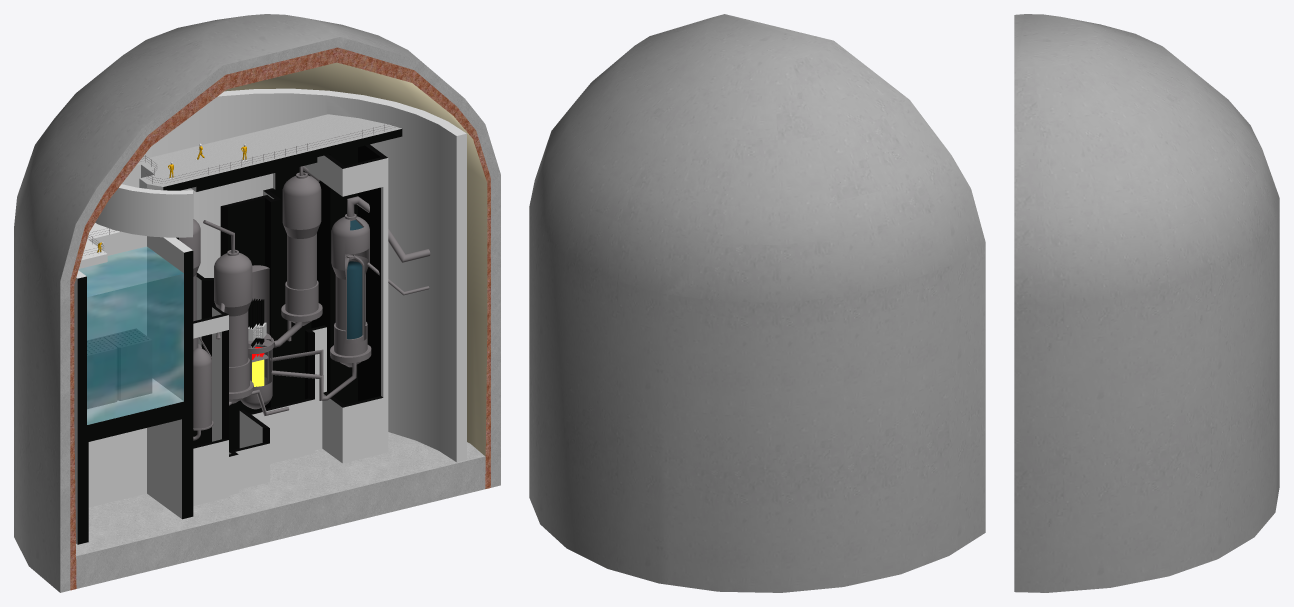
The model's file is pwr_nuclear_reactor.glb.
3 renders of one model, left to right at view 1: azimuth 30°, elevation 25°; view 2: azimuth 150°, elevation 25°; view 3: azimuth 270°, elevation 25°, orthographic. The views are drawn at different scales.
Visible parts, largest first — view 1: Object_2, Object_6, Object_5, Object_12, Object_9, Object_10, Object_11; view 2: Object_6; view 3: Object_6.
Boxes of the visible parts, x1,y1,x2,y2 form: Object_2: (74, 62, 487, 544); Object_6: (14, 14, 419, 592); Object_5: (60, 37, 500, 592); Object_12: (78, 246, 183, 424); Object_9: (70, 47, 490, 590); Object_10: (136, 114, 401, 186); Object_11: (347, 220, 362, 339); Object_6: (529, 14, 985, 592); Object_6: (1014, 14, 1279, 592).
Bounding box in the file's own units: 152 × 160 × 85.25.
Materials: 9 (9 with a texture image).
